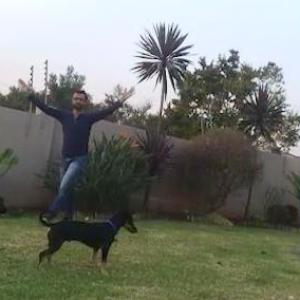takeoff: (15, 74, 127, 201)
